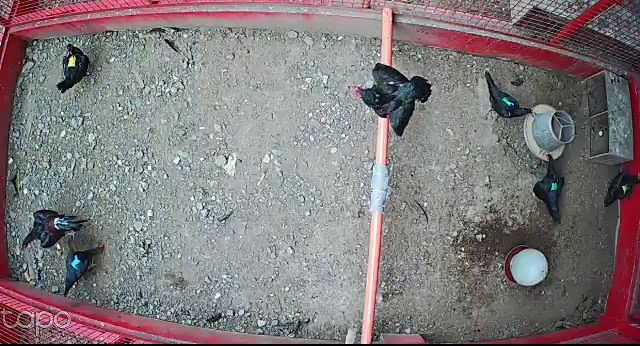Chicken: (348, 60, 430, 136), (530, 148, 567, 226), (482, 72, 535, 124), (55, 39, 96, 93), (602, 166, 640, 215)
Drinker: (503, 244, 548, 286)
Feeder: (523, 101, 578, 164)
Rooster: (16, 208, 87, 254)
Saddle_Color_Blue: (70, 252, 83, 271)
Saddle_Color_Yellow: (59, 242, 106, 297), (66, 54, 78, 68)
Saddle_Color_YellowGreen: (621, 183, 631, 193)
